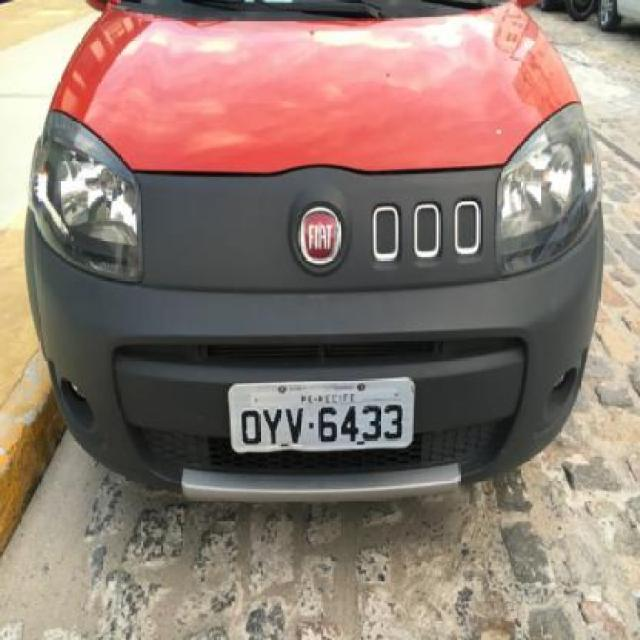old_plate: (218, 372, 421, 455)
